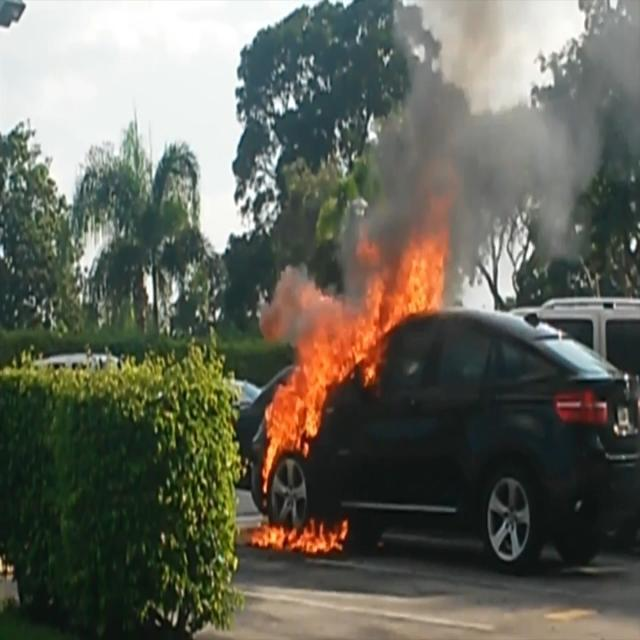fire: (250, 192, 454, 560)
